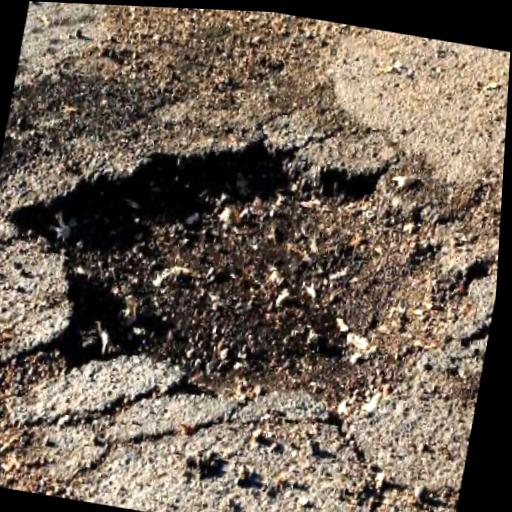pothole: (0, 95, 505, 442)
